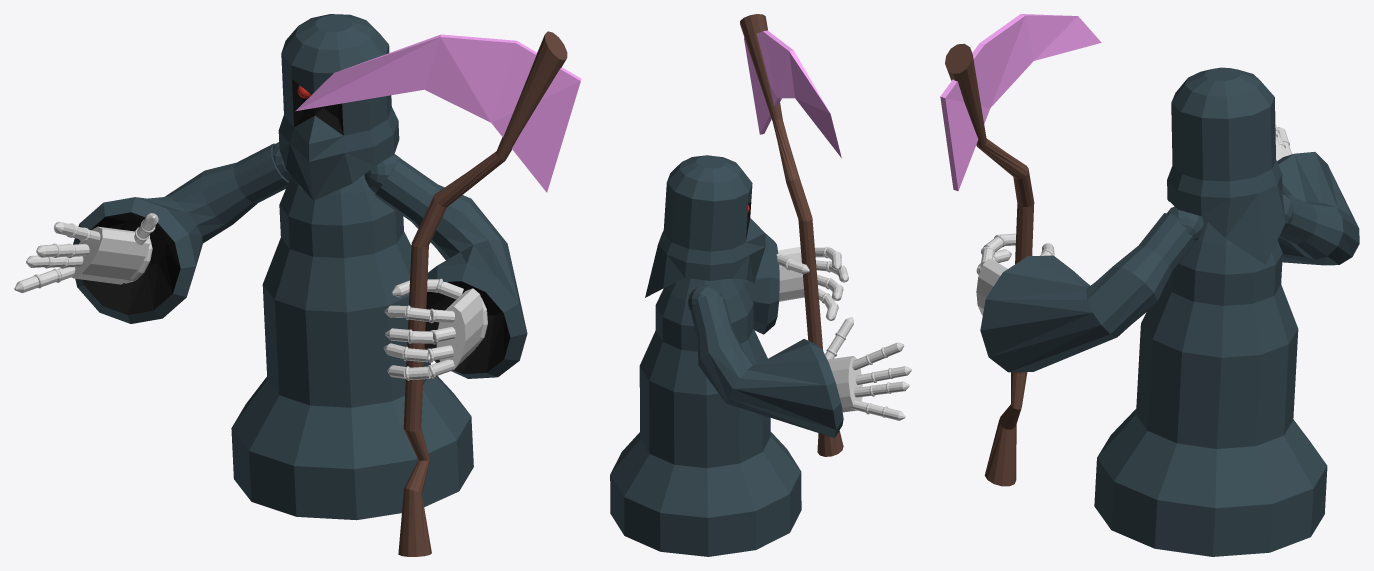
3 views of the same model, side by side, from view 1: azimuth 30°, elevation 25°; view 2: azimuth 150°, elevation 25°; view 3: azimuth 270°, elevation 25° (orthographic). The views are drawn at different scales.
Parts seen in each view (by area): view 1: node_MeshObject765071040-PolyPaper17, node_MeshObject1802511168-PolyPaper21, node_MeshObject1283791104-PolyGem25; view 2: node_MeshObject765071040-PolyPaper17, node_MeshObject1802511168-PolyPaper21, node_MeshObject1283791104-PolyGem25; view 3: node_MeshObject765071040-PolyPaper17, node_MeshObject1283791104-PolyGem25, node_MeshObject1802511168-PolyPaper21.
Boxes of the visible parts, left/top/right/bottom form: node_MeshObject765071040-PolyPaper17: left=71, top=14, right=567, bottom=556; node_MeshObject1802511168-PolyPaper21: left=14, top=85, right=310, bottom=323; node_MeshObject1283791104-PolyGem25: left=295, top=34, right=581, bottom=192; node_MeshObject765071040-PolyPaper17: left=610, top=14, right=862, bottom=556; node_MeshObject1802511168-PolyPaper21: left=688, top=205, right=911, bottom=437; node_MeshObject1283791104-PolyGem25: left=744, top=30, right=841, bottom=158; node_MeshObject765071040-PolyPaper17: left=945, top=43, right=1327, bottom=556; node_MeshObject1283791104-PolyGem25: left=940, top=14, right=1101, bottom=191; node_MeshObject1802511168-PolyPaper21: left=1275, top=124, right=1359, bottom=265.
Size of the model in its own units: 0.8914 by 1.12 by 0.846.
